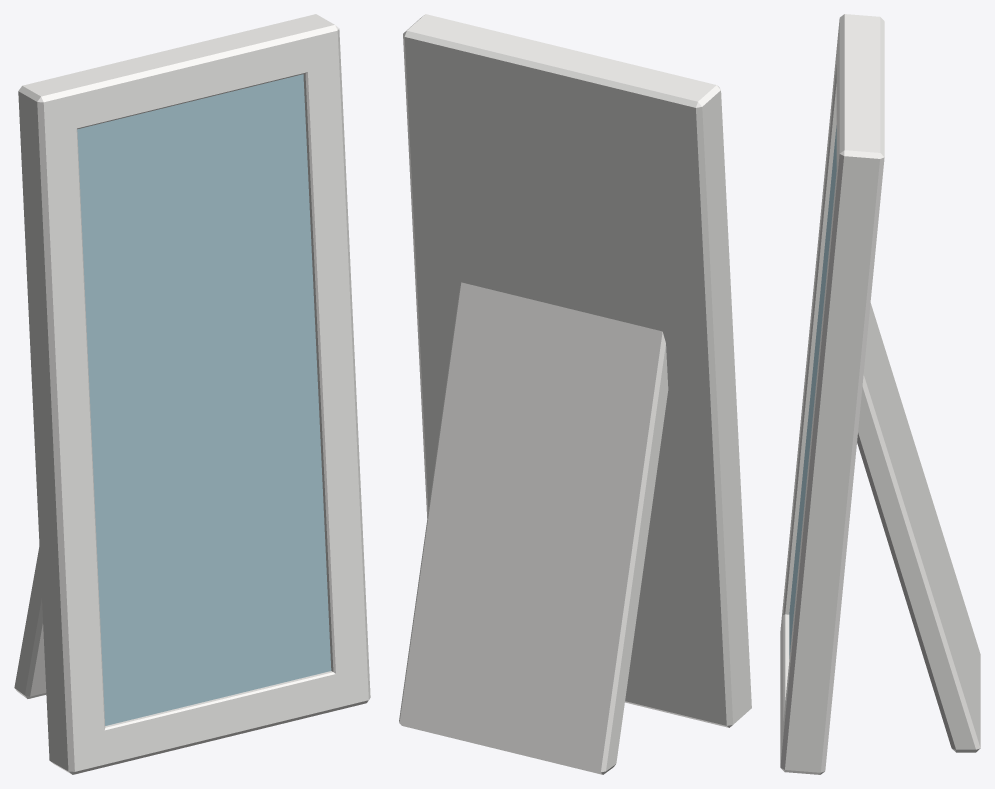
File: Mirror_2.glb
The picture shows the model from 3 angles, left to right: view 1: azimuth 30°, elevation 25°; view 2: azimuth 150°, elevation 25°; view 3: azimuth 270°, elevation 25°; orthographic projection. The views are drawn at different scales.
Parts seen in each view (by area): view 1: Mirror_2; view 2: Mirror_2; view 3: Mirror_2.
Part boxes in pixels (x1,y1,x2,y2): Mirror_2: (14,14,370,774); Mirror_2: (399,14,751,774); Mirror_2: (780,14,980,774).
Size of the model in its own units: 1.16 by 2.41 by 0.6994.
1 material, 1 textured.
